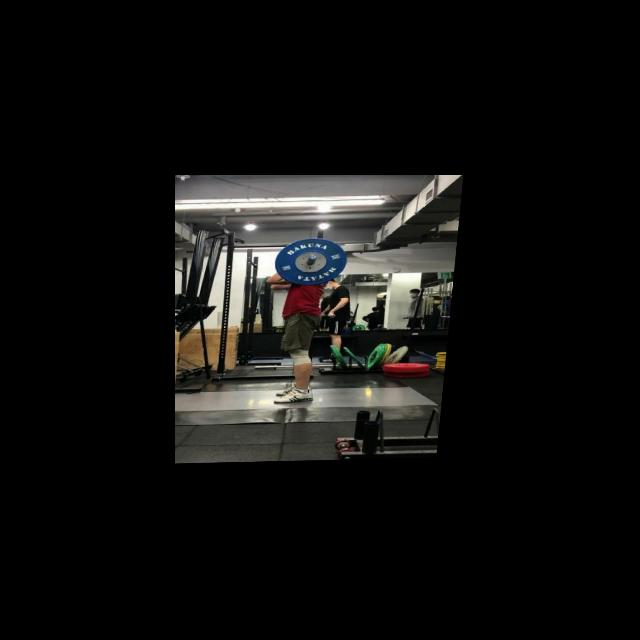barbell: (274, 234, 352, 287)
